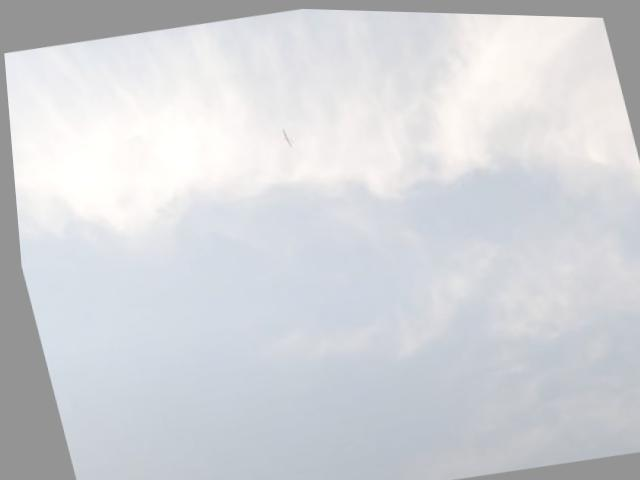iha: (275, 124, 295, 147)
